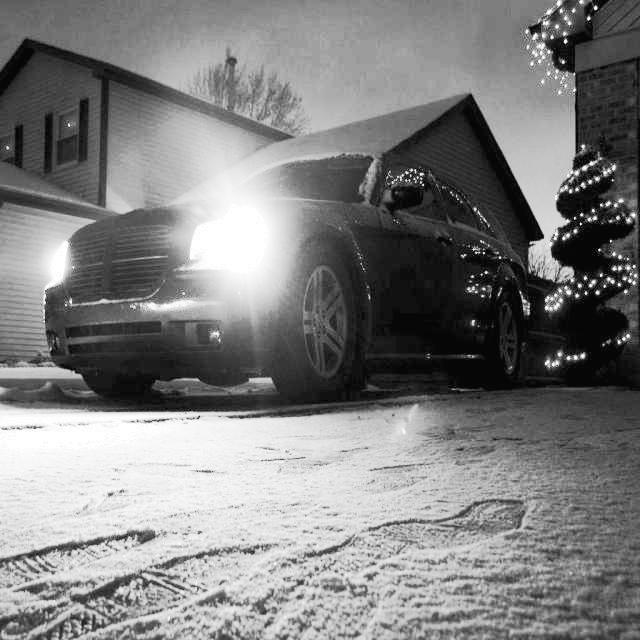Car: (37, 141, 543, 409)
Tree: (547, 141, 634, 382)
